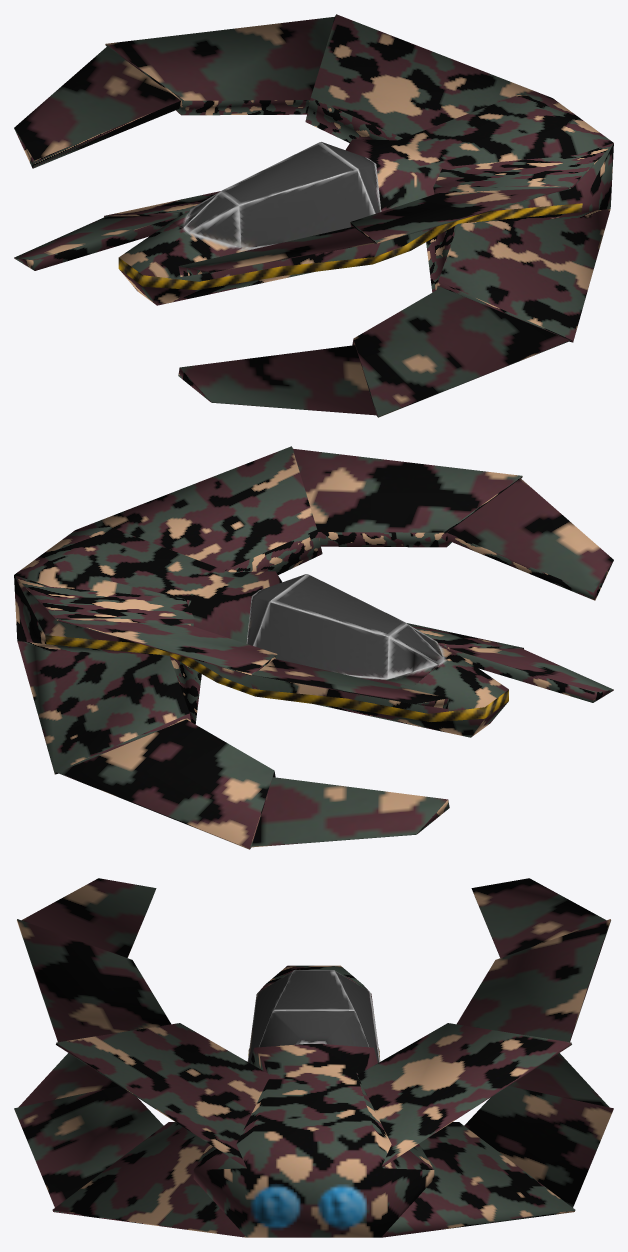
The model's file is crescent_Hunter.fbx.
The picture shows the model from 3 angles, top to bottom: view 1: azimuth 30°, elevation 25°; view 2: azimuth 150°, elevation 25°; view 3: azimuth 270°, elevation 25°; orthographic projection. The views are drawn at different scales.
Visible parts, largest first — view 1: Ship; view 2: Ship; view 3: Ship.
Boxes of the visible parts, x1,y1,x2,y2 form: Ship: (14, 14, 613, 417); Ship: (14, 446, 613, 849); Ship: (14, 878, 613, 1237).
Bounding box in the file's own units: 883 × 309 × 880.
1 material, 1 textured.
